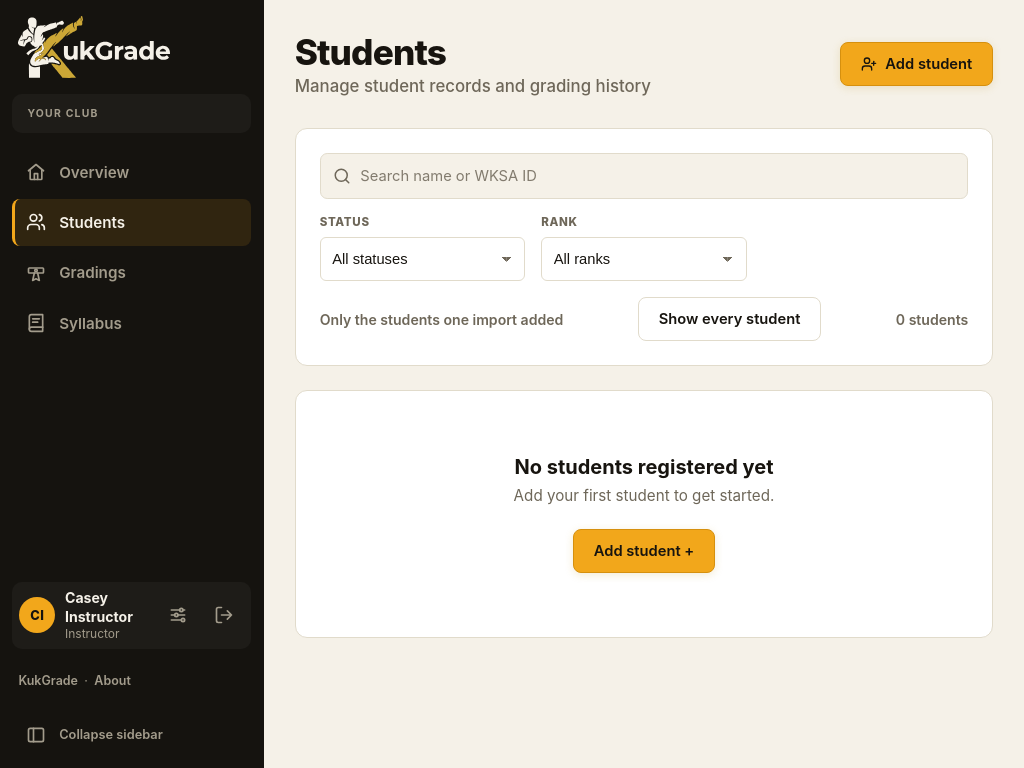
Students registry screen (/students) › shows only one import's students when an import's results link here
The image size is (1024, 768).
Check: the text "Only the students one import added" is shown, box [320,311,563,328]
Click the button "Show every student" at (730, 320), box [638,298,821,342]
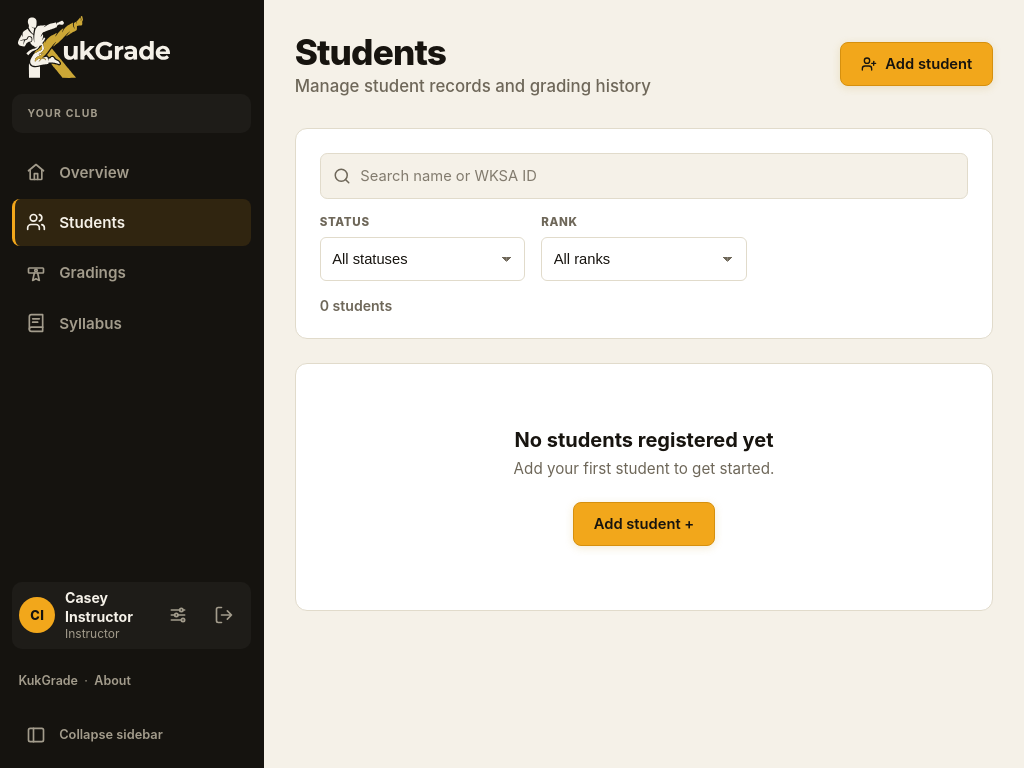
Check: the text "Only the students one import added" is gone
